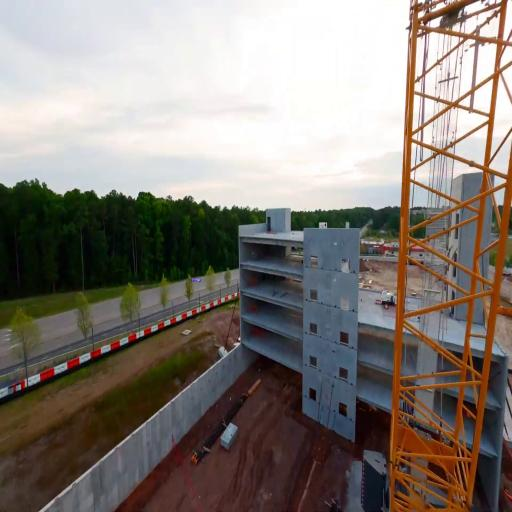uav: (190, 278, 202, 284)
